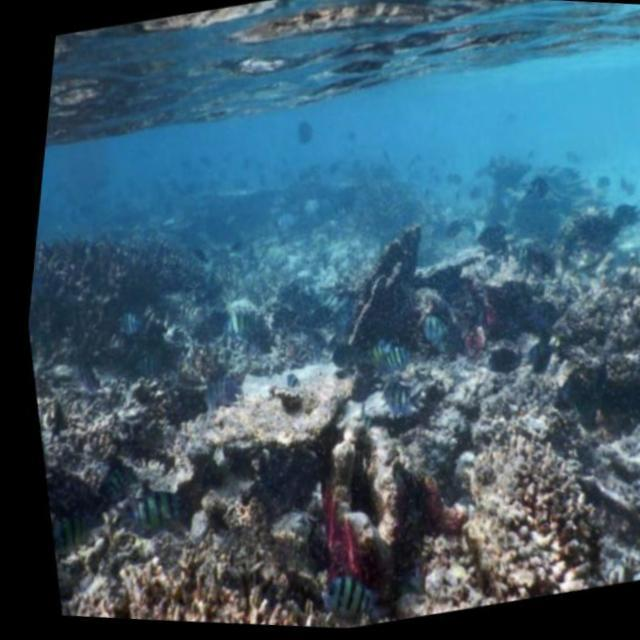Dead Coral: (29, 372, 640, 640)
